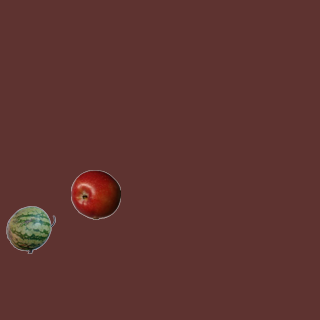Apple Braeburn: (70, 169, 120, 219)
Watermelon: (5, 204, 55, 254)
